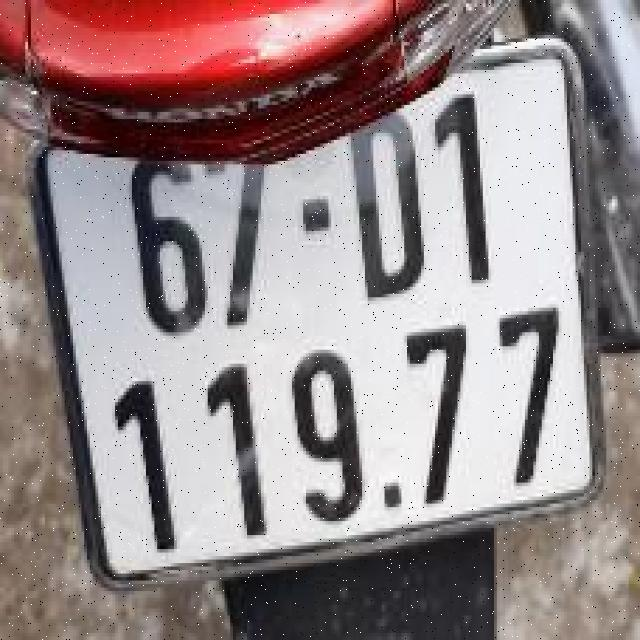1: (432, 77, 514, 287), (100, 364, 184, 566), (196, 343, 272, 556)
6: (121, 133, 216, 350)
7: (195, 117, 296, 331), (394, 302, 482, 512), (490, 288, 574, 502)
9: (285, 334, 375, 537)
D: (338, 82, 434, 317)
